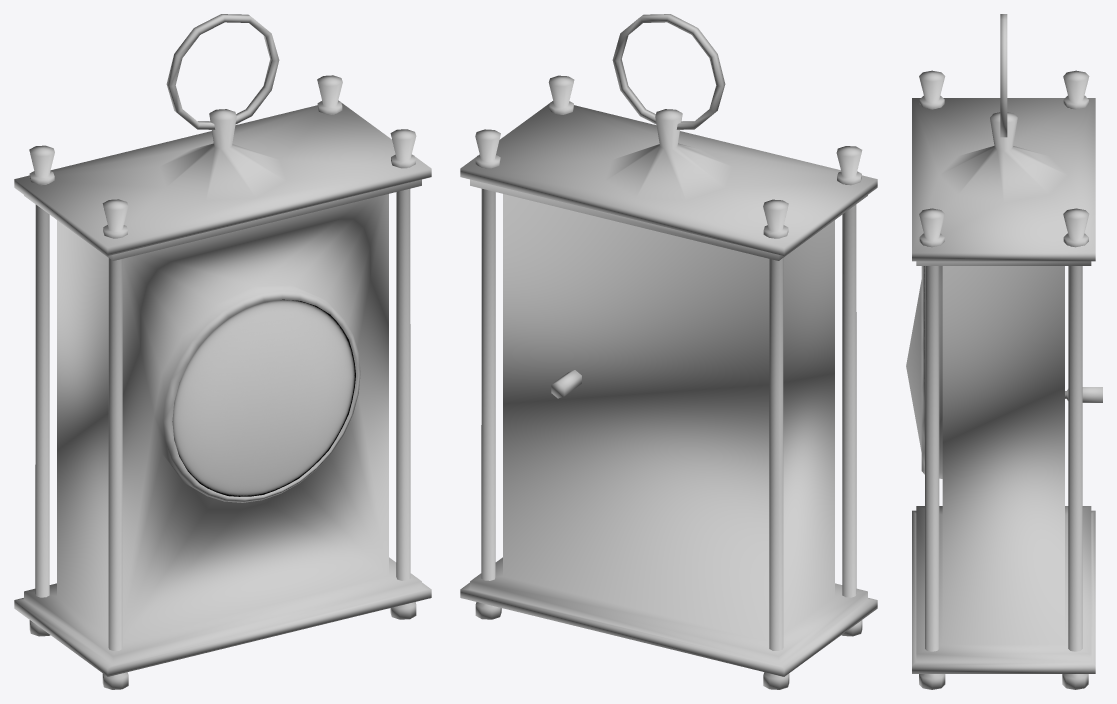
File: mantel_clock.fbx
3 renders of one model, left to right at view 1: azimuth 30°, elevation 25°; view 2: azimuth 150°, elevation 25°; view 3: azimuth 270°, elevation 25°, orthographic.
Parts seen in each view (by area): view 1: mantel_clock, mantel_clock_glass; view 2: mantel_clock; view 3: mantel_clock, mantel_clock_glass.
Boxes of the visible parts, x1,y1,x2,y2 form: mantel_clock: [14, 14, 431, 689]; mantel_clock_glass: [172, 299, 355, 496]; mantel_clock: [460, 14, 877, 689]; mantel_clock: [912, 14, 1102, 689]; mantel_clock_glass: [906, 280, 921, 451].
Size of the model in its own units: 12 by 21.5 by 6.44.
